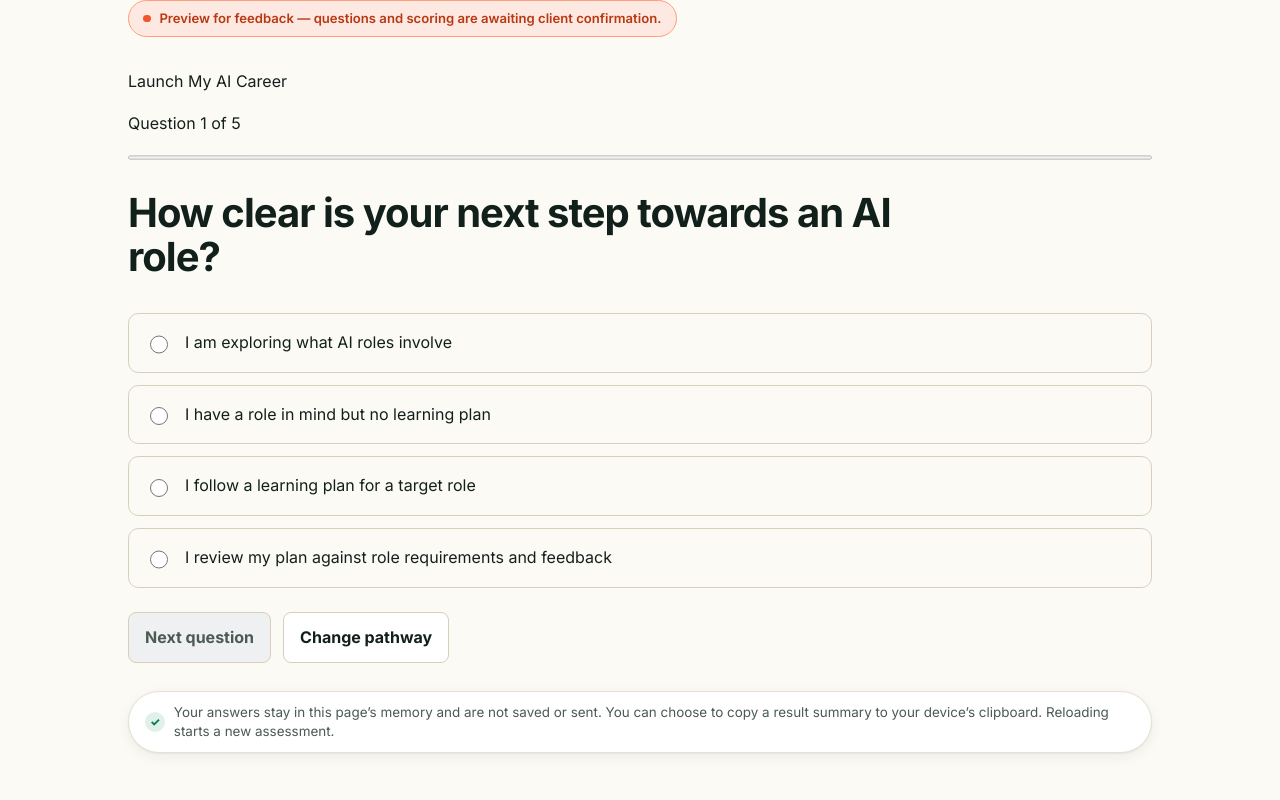
Test: assessment reset confirmation › keeps the selected answer, question and focus when the visitor cancels
Click the radio button labelled "I follow a learning plan for a target role" at (159, 488), box [150, 479, 168, 497]
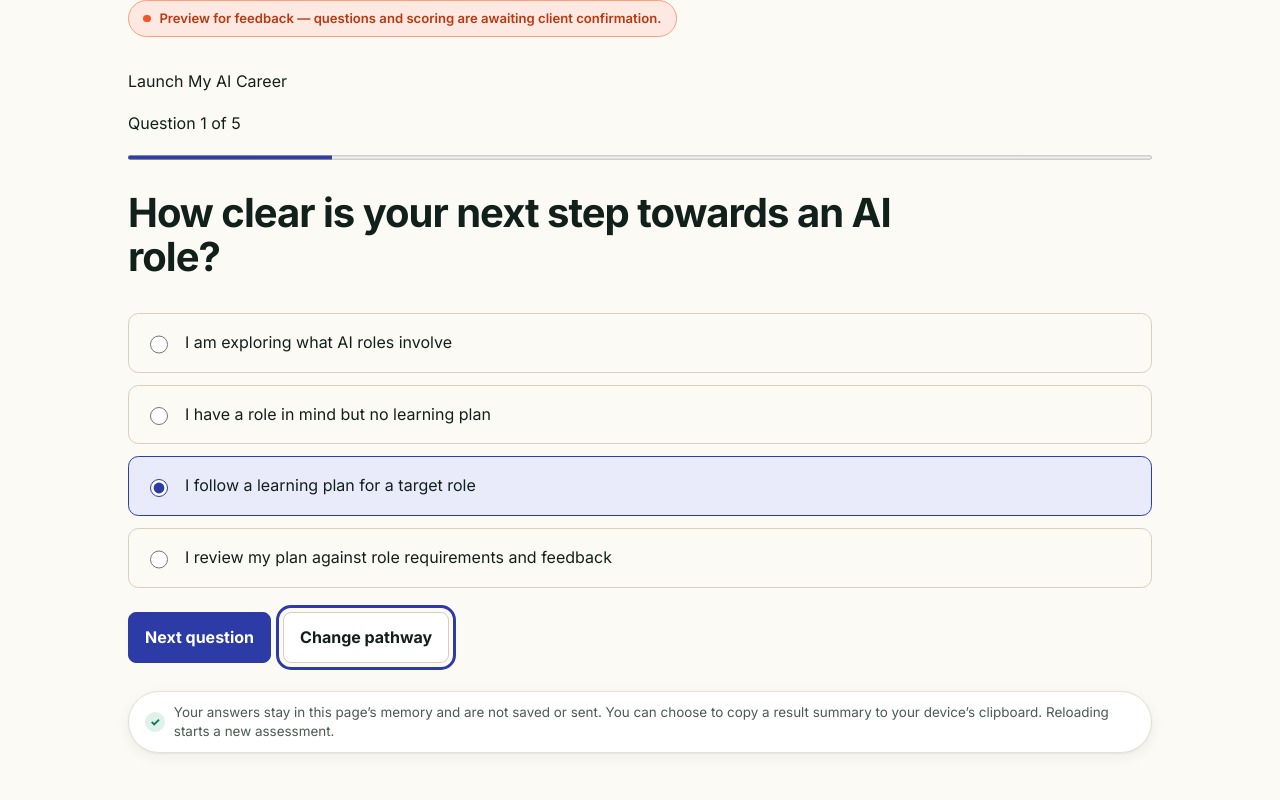
Click the button "Change pathway" at (366, 638), box [283, 612, 449, 663]
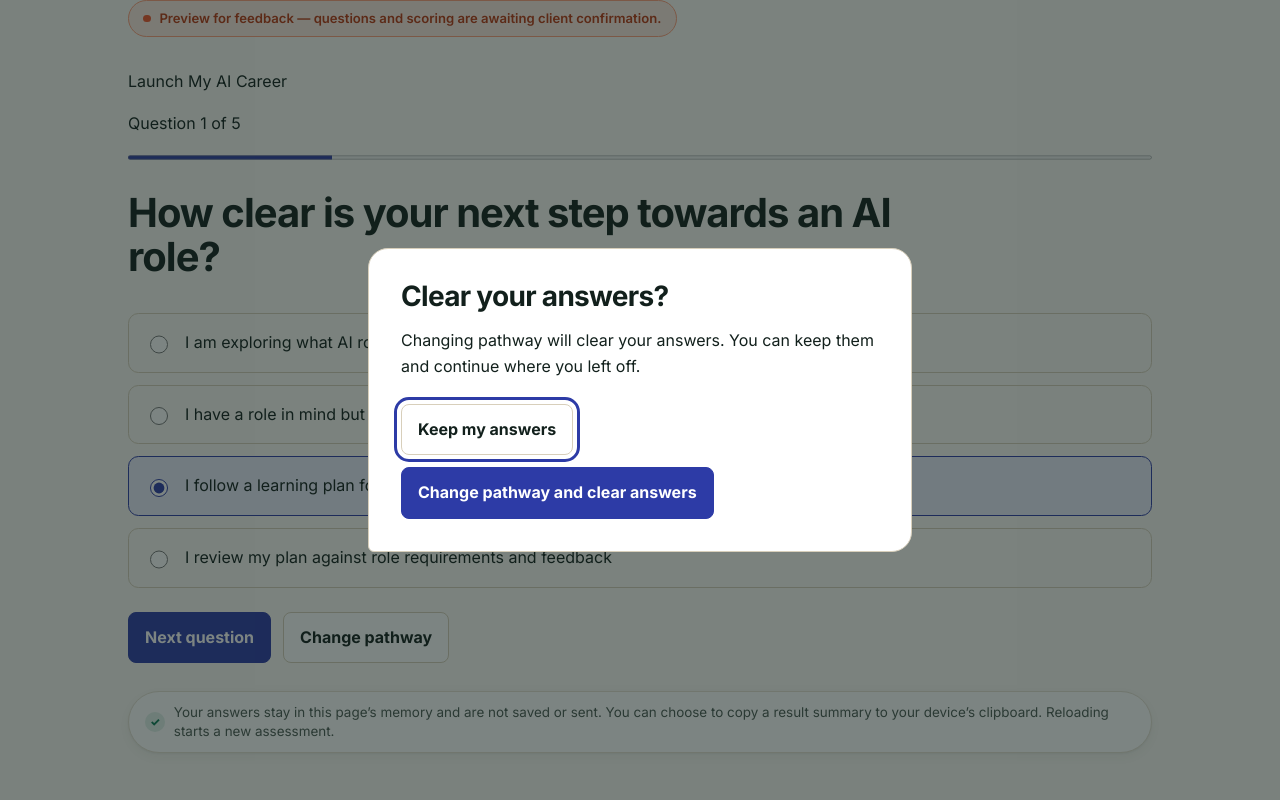
Click the button "Keep my answers" at (487, 430), box [401, 404, 573, 455]
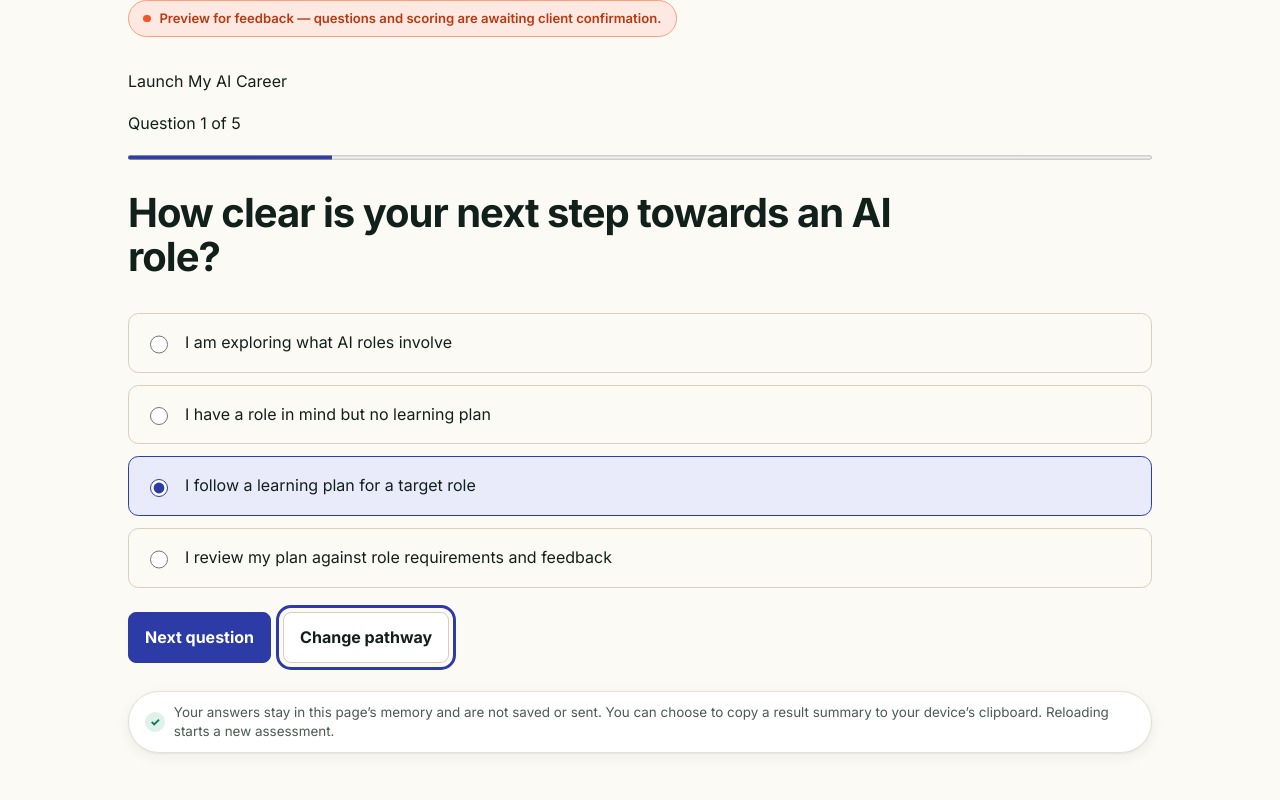
Expected: the heading "How clear is your next step towards an AI role?" is shown, [128, 190, 937, 280]
Expected: the radio button labelled "I follow a learning plan for a target role" is checked, [150, 479, 168, 497]
Expected: the dialog is gone
